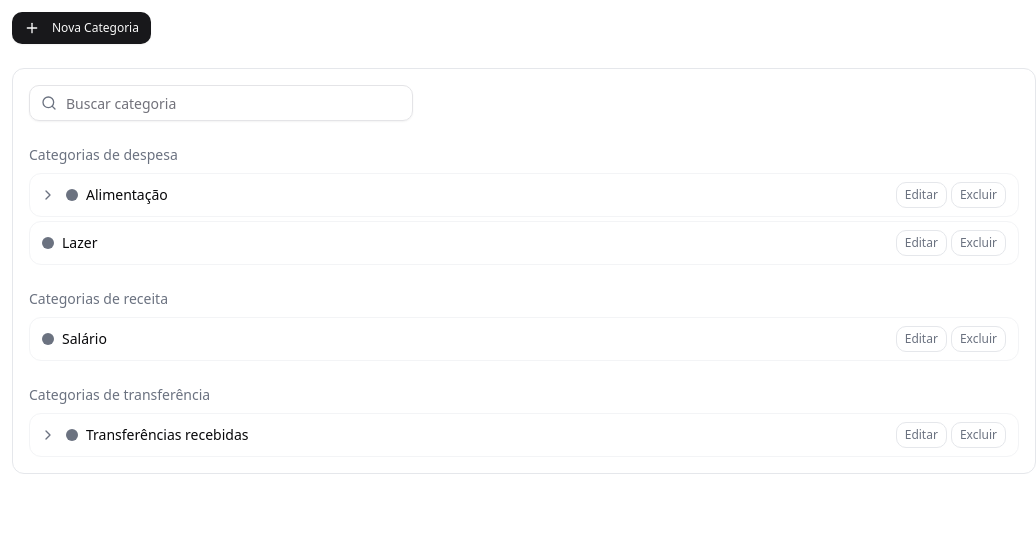
CategoryList › começa com as filhas recolhidas e abre ao clicar na mãe
Expected: the text "Supermercado" is not shown
Click the button named "Mostrar subcategorias de Alimentação".
click(48, 195)  # box [38,185,58,205]
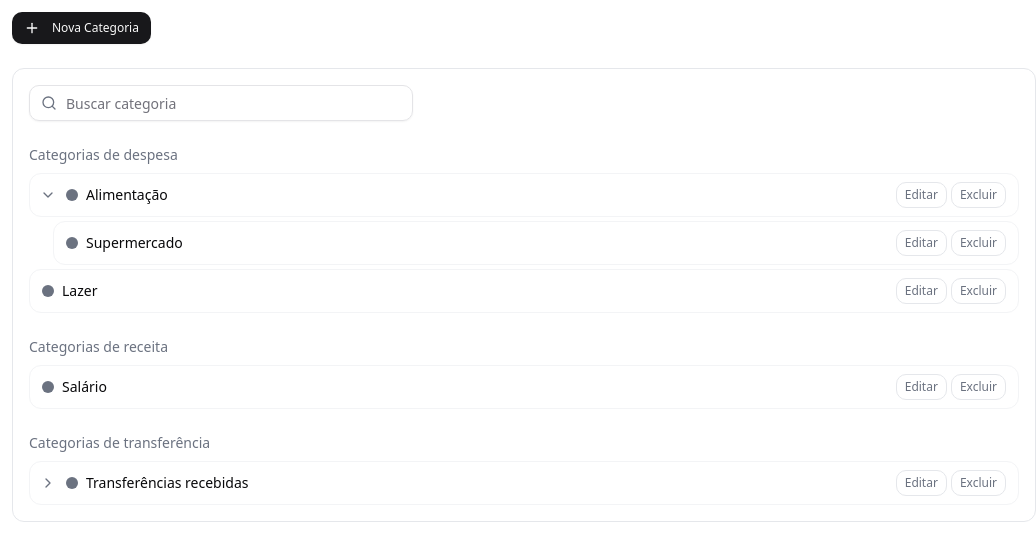
Result: the text "Supermercado" is shown at [86,233,183,253]
